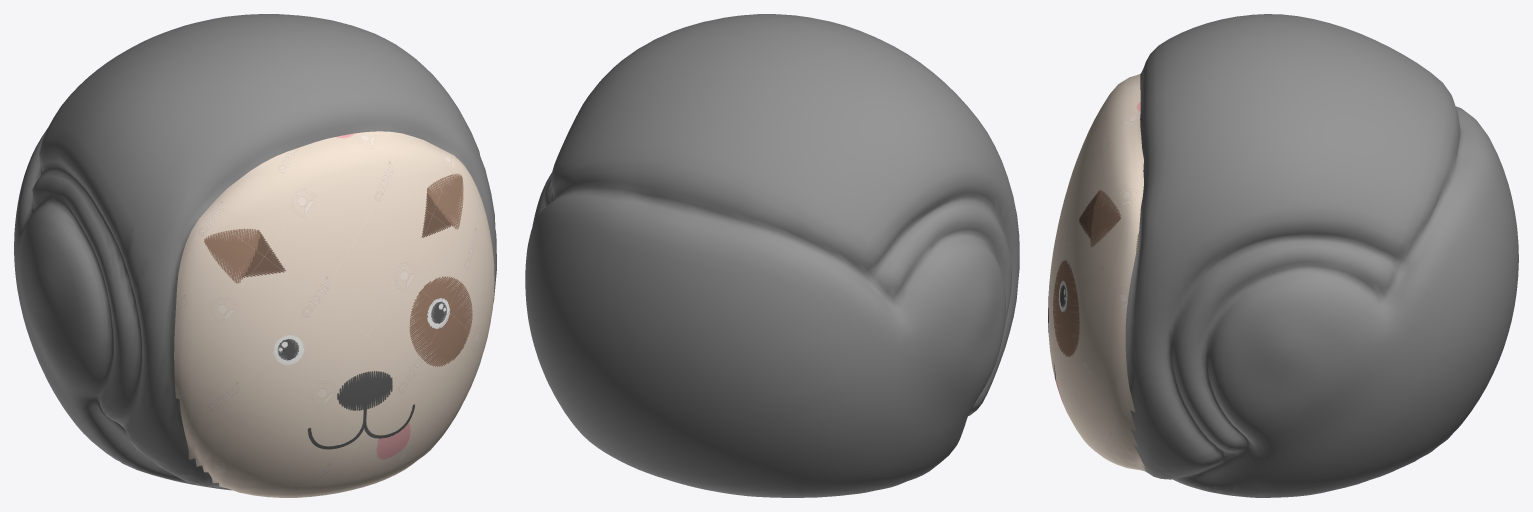
Rendered from dogAsimo.fbx.
The picture shows the model from 3 angles, left to right: view 1: azimuth 30°, elevation 25°; view 2: azimuth 150°, elevation 25°; view 3: azimuth 270°, elevation 25°; orthographic projection. The views are drawn at different scales.
Parts seen in each view (by area): view 1: asimoFace, asimo; view 2: asimo; view 3: asimo, asimoFace.
Part boxes in pixels (box(x1,y1,x2,y2)): asimoFace: box(174, 131, 494, 497); asimo: box(14, 14, 496, 490); asimo: box(525, 14, 1019, 497); asimo: box(1125, 14, 1518, 497); asimoFace: box(1048, 74, 1145, 471).
Size of the model in its own units: 89.94 by 84.91 by 86.99.
